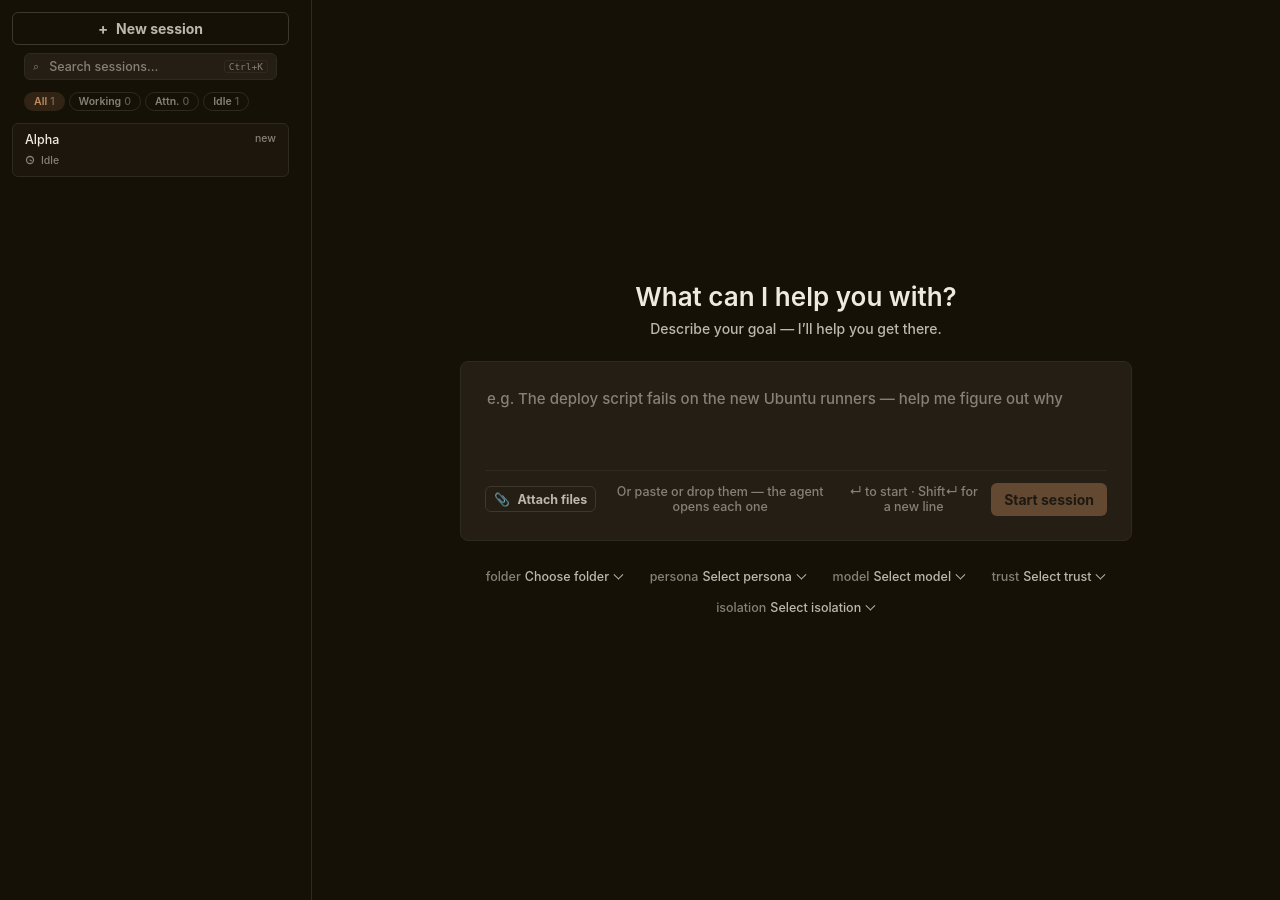
it: SessionsSurface › returns to the Launchpad by re-clicking the selected row
The width and height of the screenshot is (1280, 900).
Click the text "Alpha" at (42, 140), box [25,132,59,147]
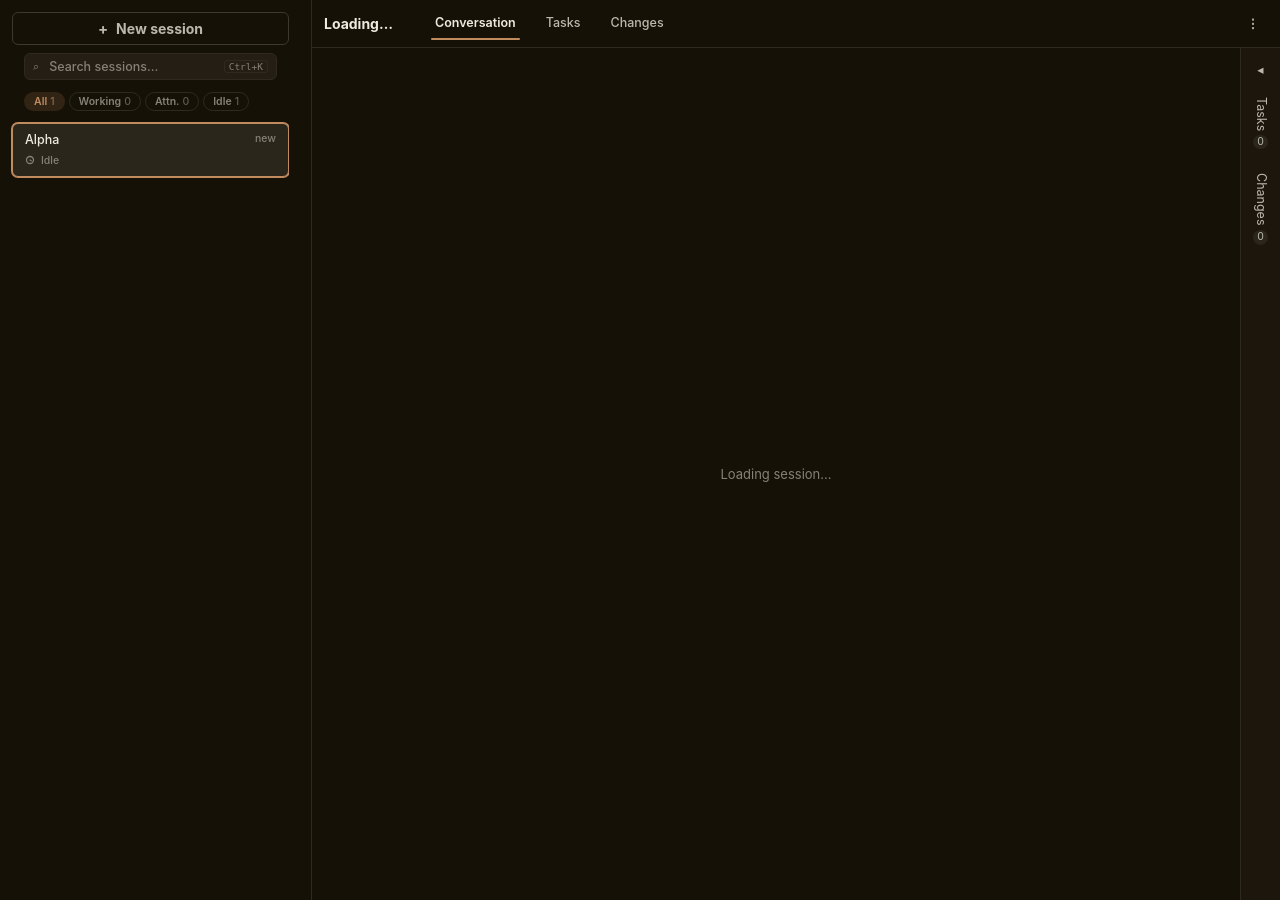
Now the button named "Workspace actions" is shown, box [1238,10,1268,36]
Click the text "Alpha" at (42, 140), box [25,132,59,147]
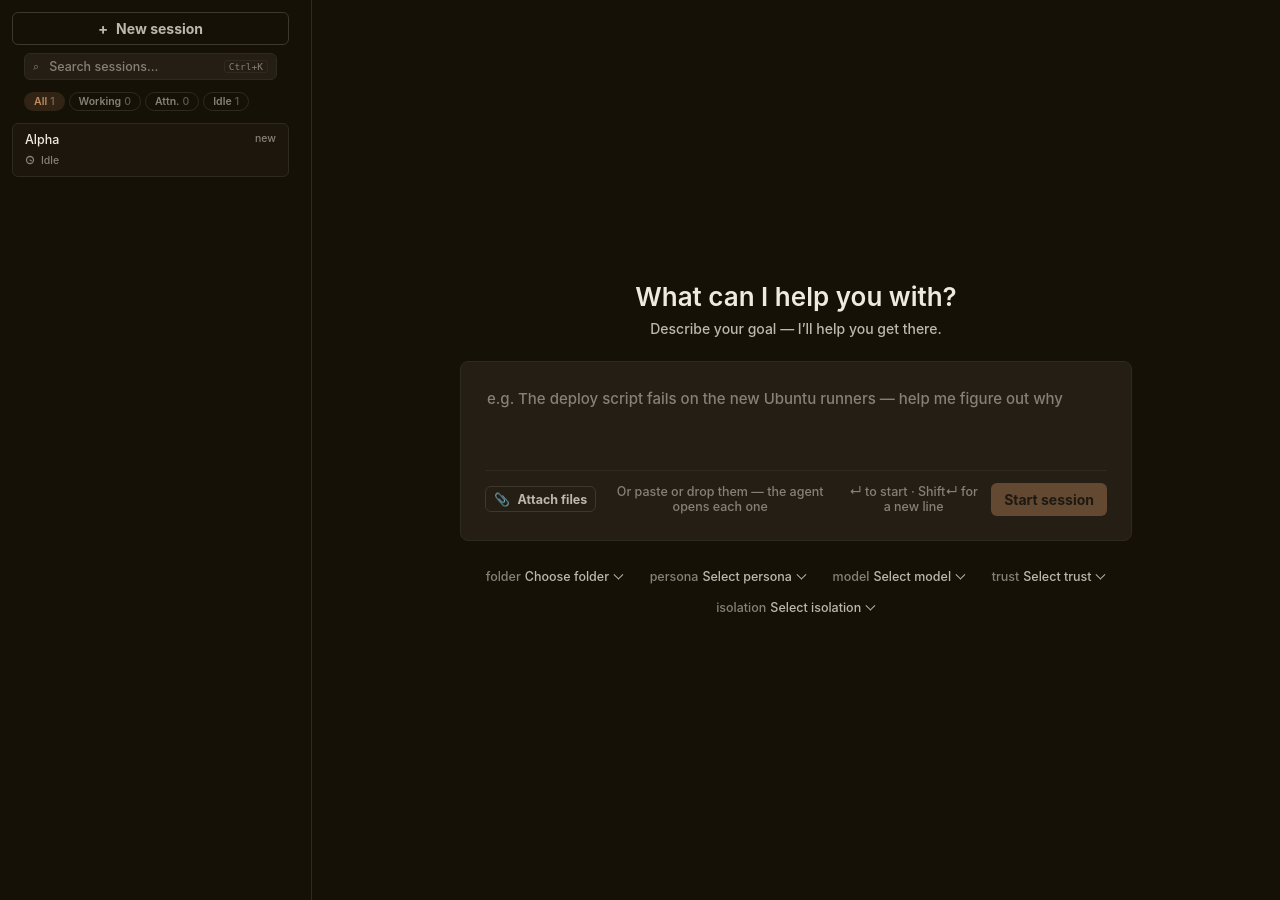
Now the heading "What can I help you with?" is shown, box [635,281,957,312]
